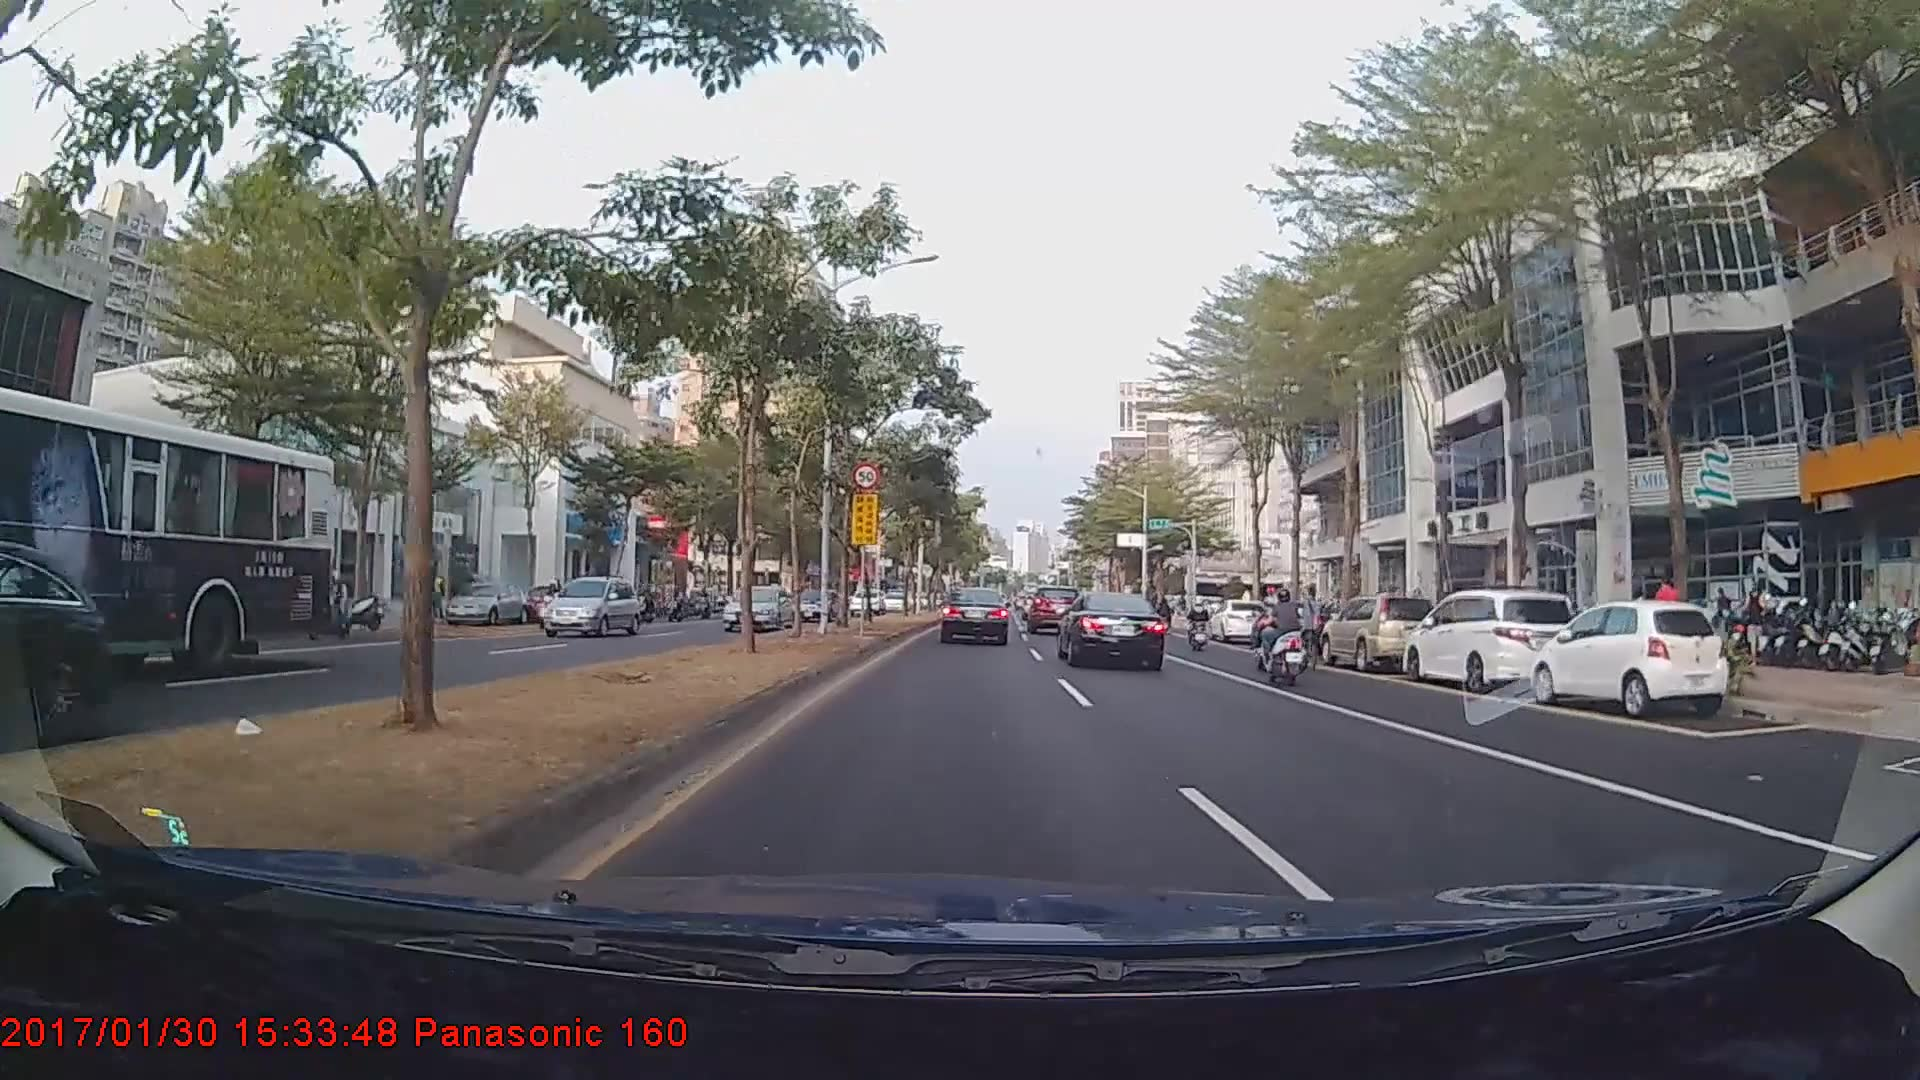rider: (1251, 582, 1322, 682), (1182, 591, 1214, 647)
vehicle: (0, 382, 330, 684), (0, 540, 121, 751), (1529, 597, 1731, 712), (1400, 588, 1577, 694), (1320, 592, 1440, 669), (1057, 588, 1167, 671), (536, 575, 642, 637), (938, 586, 1011, 645), (443, 577, 528, 625), (720, 581, 792, 630), (1211, 595, 1270, 643), (1027, 586, 1080, 632), (521, 583, 577, 621), (793, 585, 842, 619), (848, 587, 884, 612)
